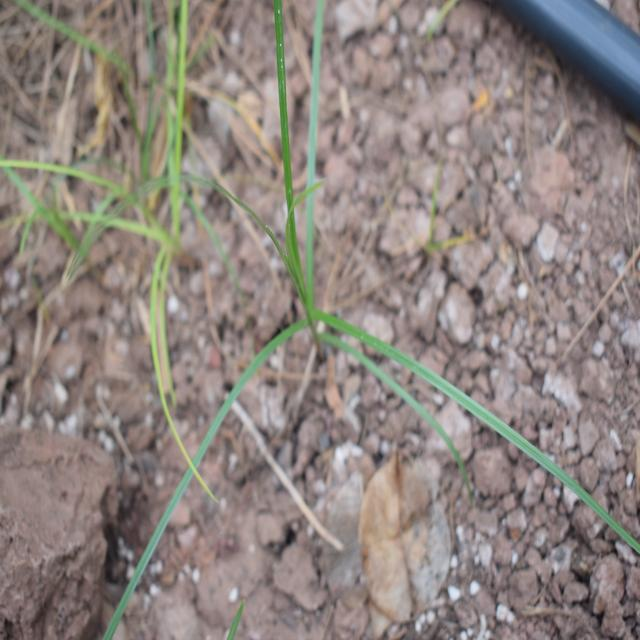sedge: (97, 51, 557, 551)
